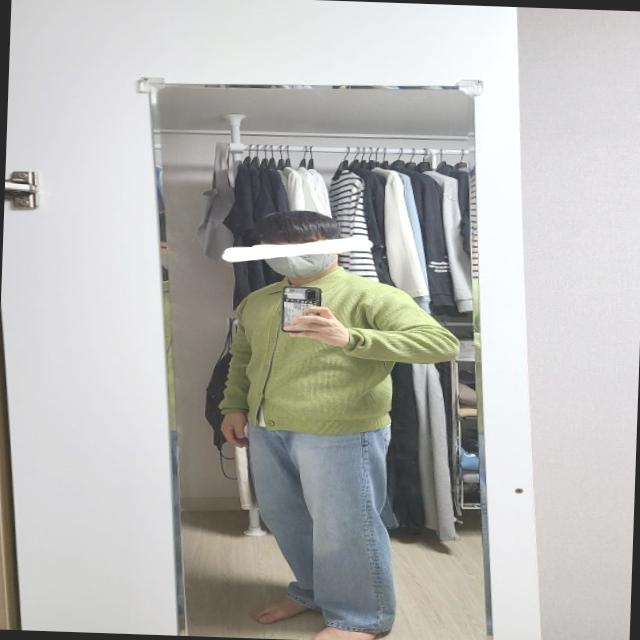cardigan: (218, 262, 462, 444)
denimpants: (232, 410, 405, 634)
